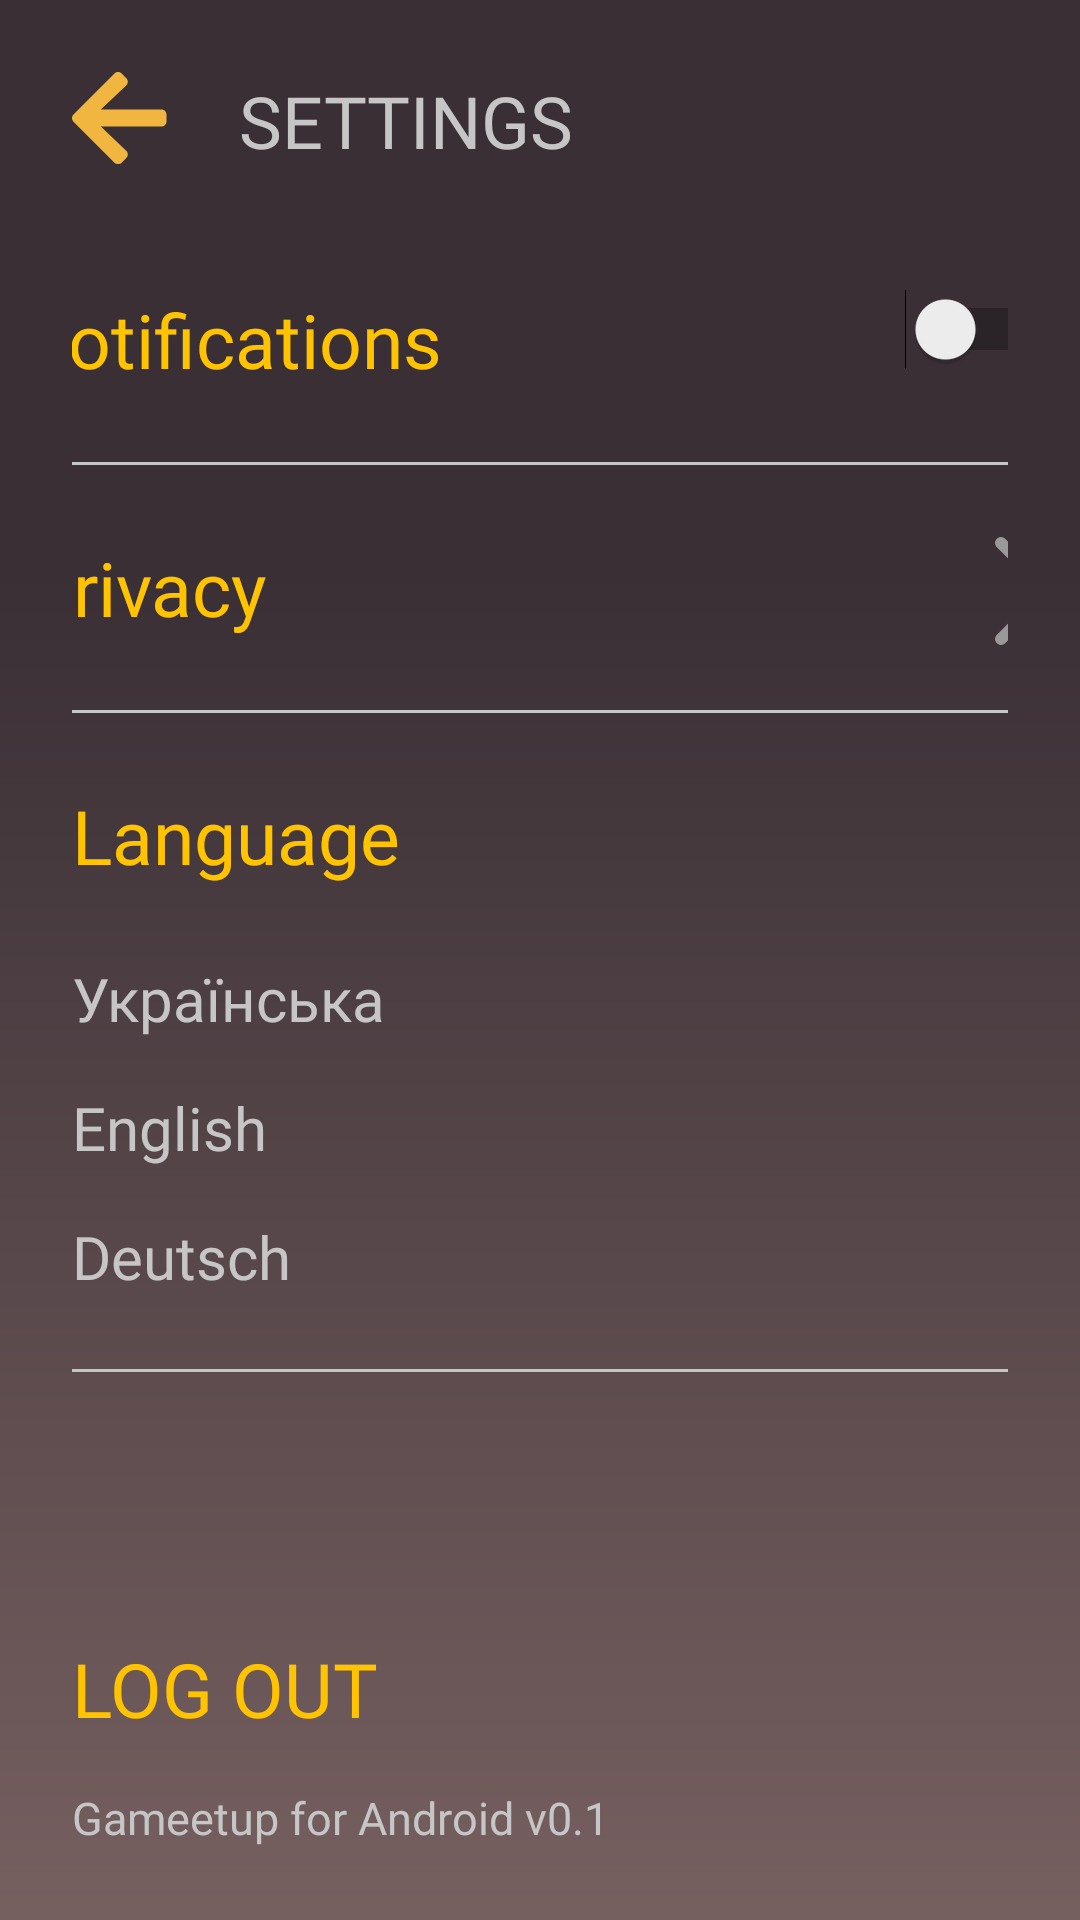

Where icons sit on this 1080 x 1920 app screen, as box=[x1, y1, x2, y2]:
awesome arrow left: box=[72, 72, 167, 164]
